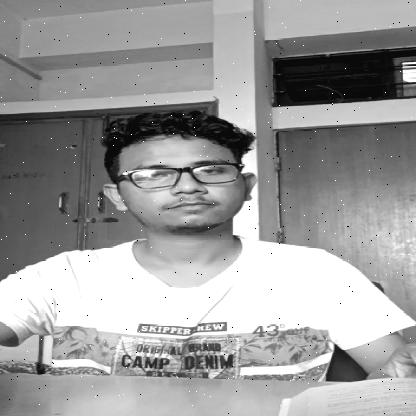Normal: (107, 137, 242, 240)
